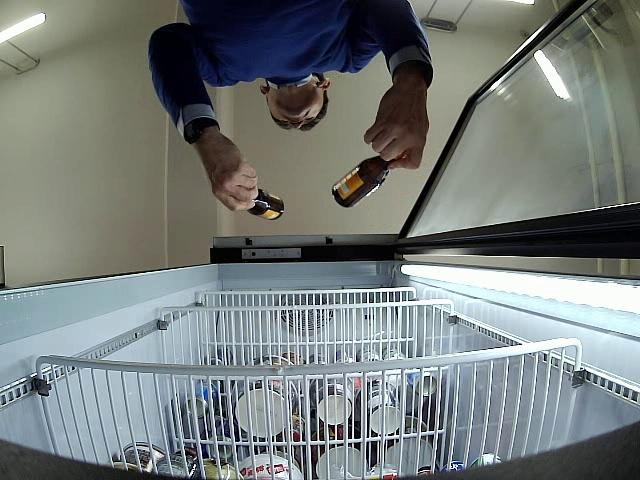00_hand: (363, 84, 431, 170), (193, 143, 258, 212)
17_vita500: (332, 155, 395, 211), (247, 187, 286, 223)
